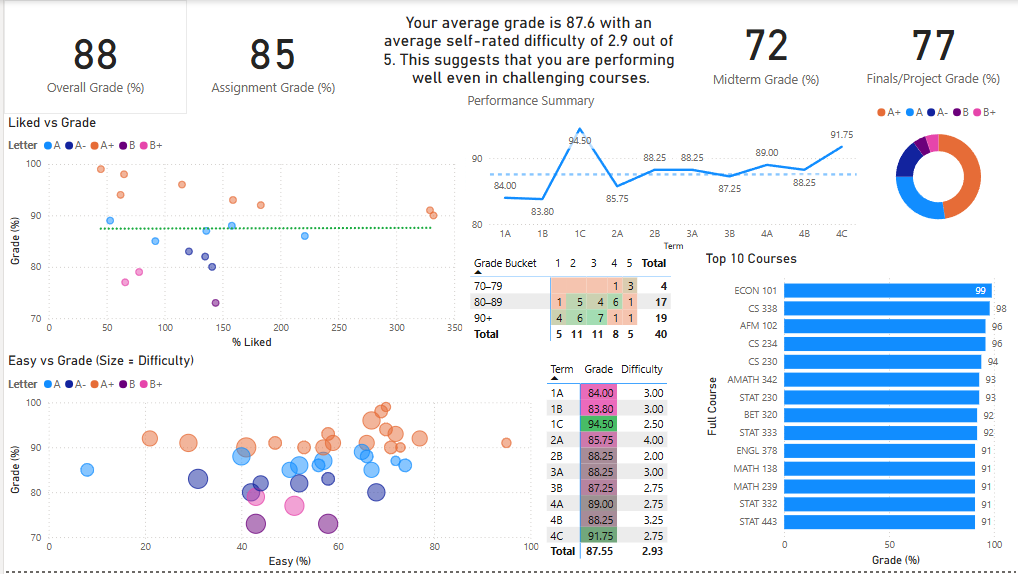

The page's visual inventory and layout, read from the dashboard file:
{"tool":"powerbi","page":{"name":"Narrative","canvas":[1280,720],"ordinal":0},"visuals":[{"type":"donutChart","fields":{"Category":["Data.Letter"],"Y":["CountNonNull(Data.Letter)"]},"box":[1075.3,120.9,204.1,173.9],"z":0},{"type":"card","fields":{"Values":["Avg(Data.Grade (%))"]},"box":[0,0,230.6,143.6],"z":1000},{"type":"card","fields":{"Values":["Avg(Data.Assignment Grade (%))"]},"box":[230.6,0,217.3,143.6],"z":2000},{"type":"card","fields":{"Values":["Avg(Data.Midterm Grade)"]},"box":[858,0,204.1,120.9],"z":3000},{"type":"card","fields":{"Values":["Avg(Data.Final/Project Grade)"]},"box":[1062.1,0,217.3,120.9],"z":4000},{"type":"lineClusteredColumnComboChart","fields":{"Category":["Data.Term"],"Y2":["Avg(Data.Grade (%))"]},"box":[566.9,143.6,512.1,177.6],"z":5000},{"type":"scatterChart","title":"Easy vs Grade (Size = Difficulty)","fields":{"X":["Data.Easy  (%)"],"Y":["Data.Grade (%)"],"Series":["Data.Letter"],"Size":["Sum(Data.My Difficulty (1-5))"]},"box":[0,444.1,678.4,275.9],"z":6000},{"type":"barChart","title":"Top 10 Courses","fields":{"Y":["Sum(Data.Grade (%))"],"Category":["Data.Full Course"]},"box":[878.7,315.6,400.6,402.5],"z":7000},{"type":"pivotTable","fields":{"Rows":["Data.Term"],"Values":["Avg(Data.Grade (%))","Avg(Data.My Difficulty (1-5))"]},"box":[678.4,449.8,179.5,264.6],"z":8000},{"type":"scatterChart","title":"Liked vs Grade","fields":{"X":["Sum(Data.Liked (%))"],"Y":["Data.Grade (%)"],"Series":["Data.Letter"]},"box":[0,143.6,582.1,300.5],"z":9000},{"type":"pivotTable","fields":{"Values":["CountNonNull(Data.Course Code)"],"Columns":["Data.My Difficulty (1-5)"],"Rows":["Data.Grade Bucket"]},"box":[582.1,315.6,281.6,128.5],"z":10000},{"type":"card","fields":{"Values":["Data.Performance Summary"]},"box":[447.9,0,430.9,143.6],"z":11000}]}

Visuals, with their boxes in screenshot pixels (x1, y1, x2, y2), scaled from the page's 1280x720 canvas onto the 1018x574 screenshot:
donutChart - Data.Letter x CountNonNull(Data.Letter): 855 96 1017 235
card - Avg(Data.Grade (%)): 0 0 183 114
card - Avg(Data.Assignment Grade (%)): 183 0 356 114
card - Avg(Data.Midterm Grade): 682 0 845 96
card - Avg(Data.Final/Project Grade): 845 0 1017 96
lineClusteredColumnComboChart - Data.Term x Avg(Data.Grade (%)): 451 114 858 256
"Easy vs Grade (Size = Difficulty)" scatterChart: 0 354 540 573
"Top 10 Courses" barChart: 699 252 1017 572
pivotTable - Data.Term x Avg(Data.Grade (%)): 540 359 682 570
"Liked vs Grade" scatterChart: 0 114 463 354
pivotTable - CountNonNull(Data.Course Code) x Data.My Difficulty (1-5): 463 252 687 354
card - Data.Performance Summary: 356 0 699 114
